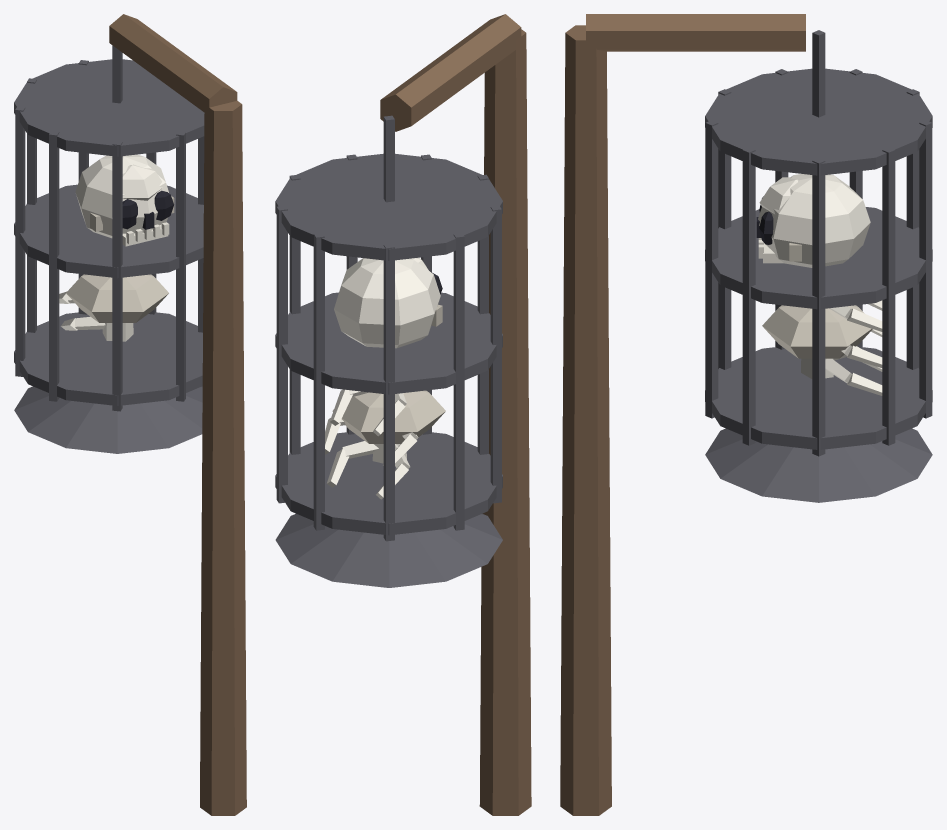
The model's file is cage_skel.glb.
3 renders of one model, left to right at view 1: azimuth 30°, elevation 25°; view 2: azimuth 150°, elevation 25°; view 3: azimuth 270°, elevation 25°, orthographic. The views are drawn at different scales.
Parts seen in each view (by area): view 1: cage_skel; view 2: cage_skel; view 3: cage_skel.
Part boxes in pixels (left/top/right/bottom): cage_skel: left=14, top=14, right=246, bottom=815; cage_skel: left=275, top=14, right=531, bottom=815; cage_skel: left=560, top=14, right=932, bottom=815.
Size of the model in its own units: 0.885 by 3.38 by 1.44.
